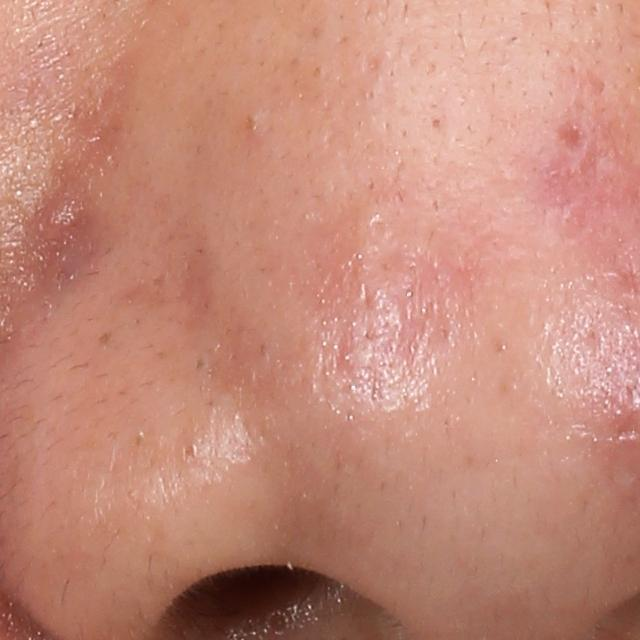atrophic_scar: (554, 118, 587, 156)
comedo: (239, 108, 262, 135), (180, 438, 200, 460)
